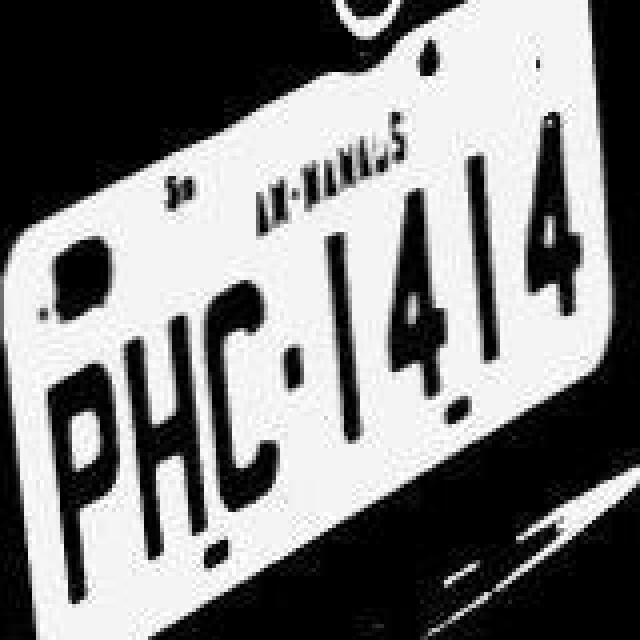1: (320, 220, 364, 468), (460, 144, 504, 384)
4: (506, 92, 586, 348), (382, 186, 454, 406)
C: (204, 244, 280, 524)
H: (122, 270, 202, 562)
P: (44, 334, 120, 618)
